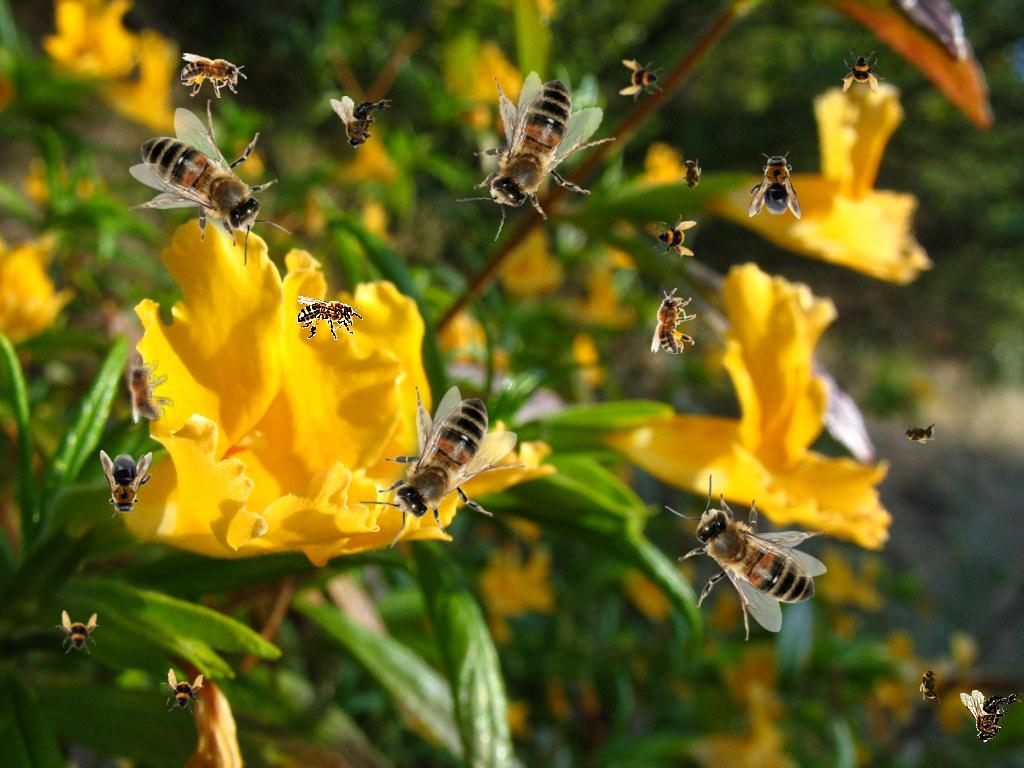Bee: (438, 59, 629, 247), (359, 386, 526, 548), (129, 99, 291, 266), (665, 474, 827, 641), (114, 350, 178, 427), (749, 151, 801, 219), (100, 450, 152, 518), (296, 293, 364, 342), (330, 96, 392, 149), (960, 690, 1022, 743), (181, 53, 247, 98), (651, 288, 696, 354), (158, 667, 206, 715), (841, 51, 885, 95), (619, 58, 663, 102), (653, 214, 697, 258), (55, 610, 99, 654), (680, 155, 702, 195), (899, 422, 939, 444), (919, 664, 941, 704)
